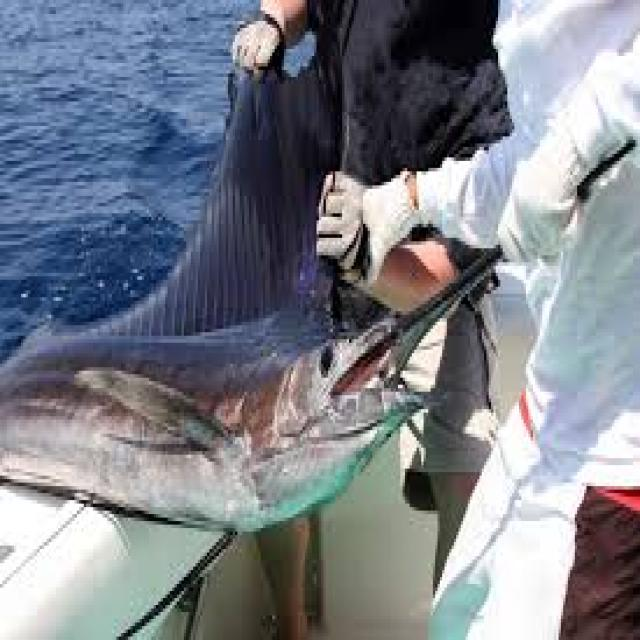Liberacion no segura: (2, 7, 640, 535)
